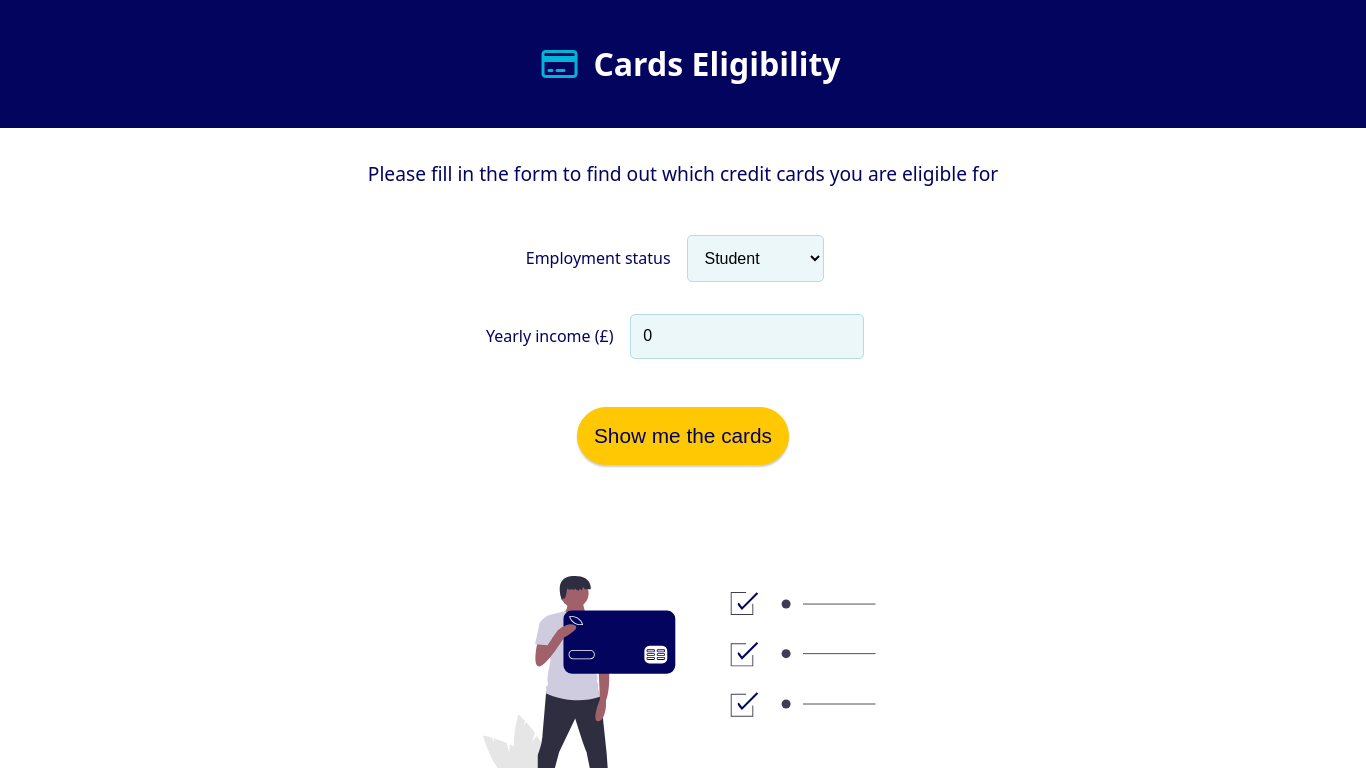
Test: Test Form › It retrieves eligible cards on button click (mock fetch API)
What coordinates should you click on to do the following:
click the button "Show me the cards"
I would click on:
 (683, 436)
Its box is left=577, top=407, right=789, bottom=465.
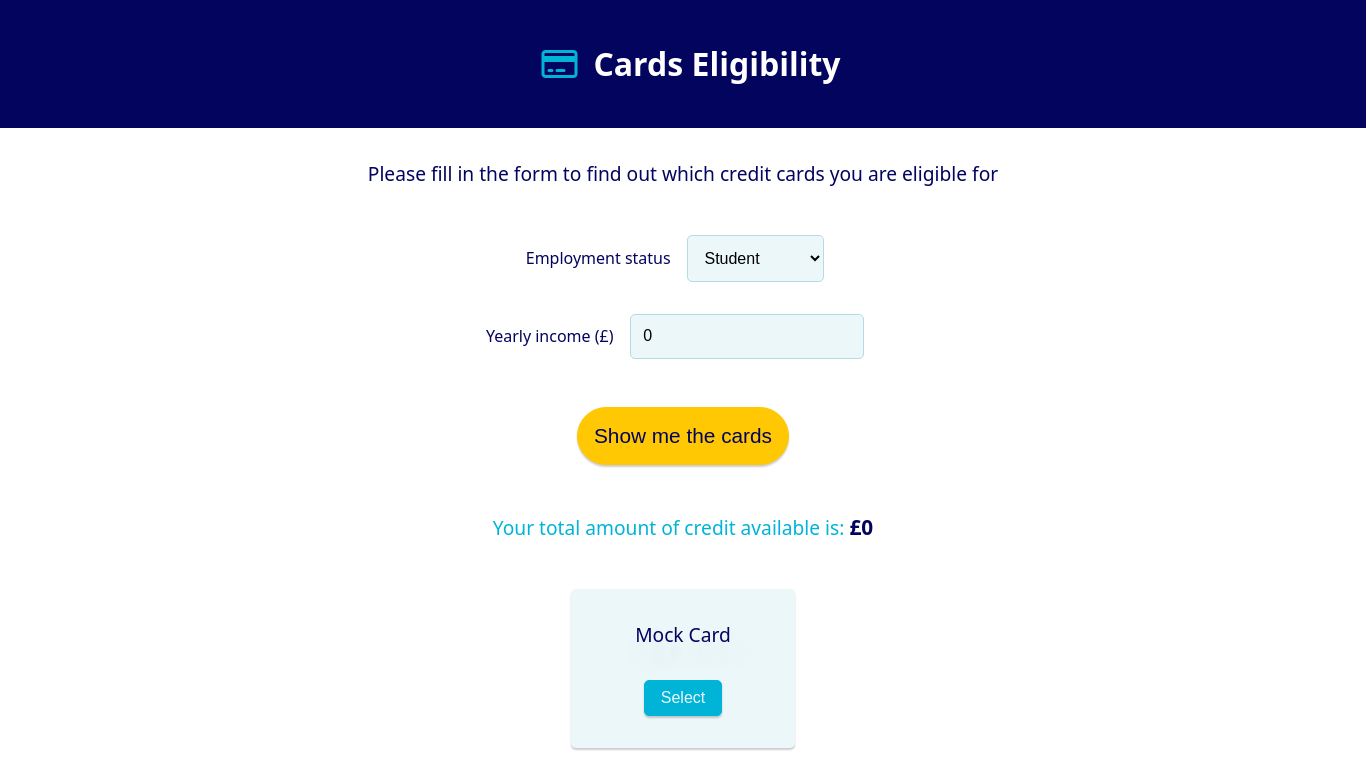
Expected: the text "Mock Card" is shown, left=635, top=621, right=731, bottom=648
